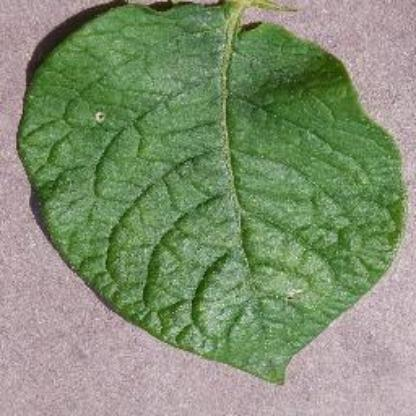Healthy-plant: (15, 7, 408, 388)
